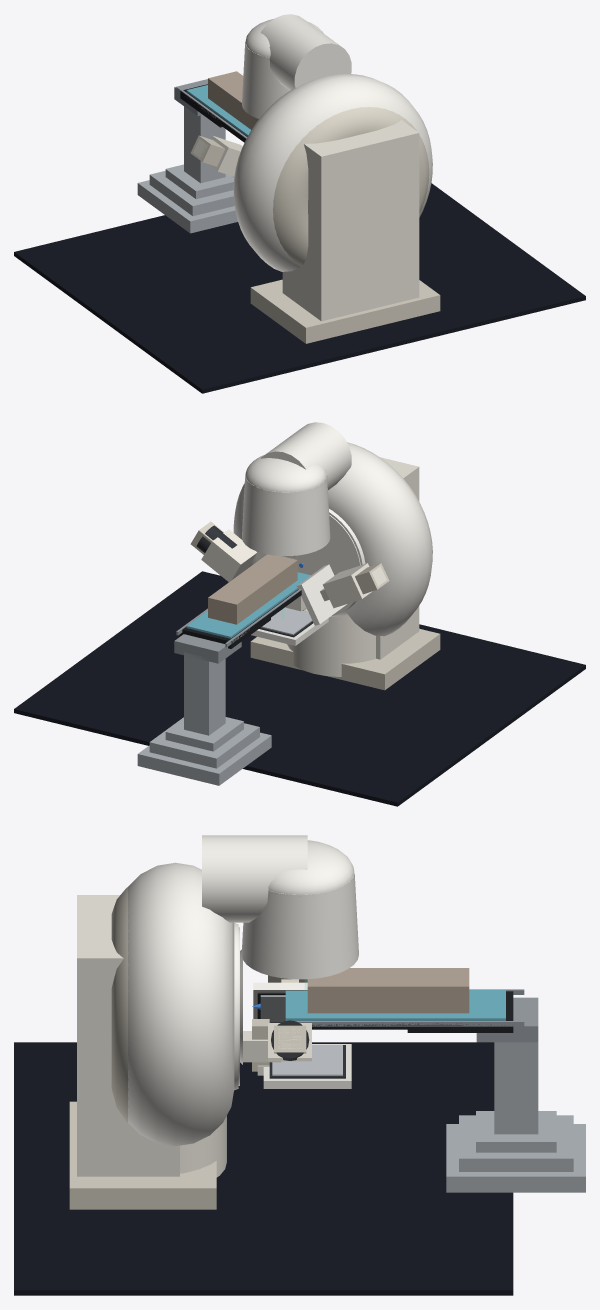
File: truebeam.glb
3 renders of one model, top to bottom at view 1: azimuth 30°, elevation 25°; view 2: azimuth 150°, elevation 25°; view 3: azimuth 270°, elevation 25°, orthographic. The views are drawn at different scales.
Parts seen in each view (by area): view 1: Floor, Stand_Column, Gantry_Body, Gantry_Body_Inner, Stand_Pedestal, Head_Neck, Head_Housing, Couch_Base, Couch_Column, Couch_Base_Step, Patient_Phantom, Couch_Base_Collar (+4 smaller); view 2: Floor, Gantry_Body, Head_Housing, Stand_Pedestal, Patient_Phantom, Stand_Fairing, Couch_Column, Head_Neck, Couch_Base, Head_Crown, Couch_Base_Step, kV_Source_Arm_Base (+13 smaller); view 3: Floor, Gantry_Body, Stand_Column, Head_Housing, Patient_Phantom, Head_Neck, Stand_Pedestal, Couch_Base, Couch_Column, Couch_Base_Step, Gantry_Body_Inner, Couch_Pad (+14 smaller).
Part boxes in pixels (x1,y1,x2,y2): Floor: (14,183,585,393); Stand_Column: (282,120,419,321); Gantry_Body: (233,74,432,271); Gantry_Body_Inner: (272,107,429,266); Stand_Pedestal: (250,279,440,343); Head_Neck: (260,14,351,90); Head_Housing: (242,38,289,118); Couch_Base: (137,180,237,233); Couch_Column: (184,106,225,183); Couch_Base_Step: (149,170,234,215); Patient_Phantom: (208,71,258,129); Couch_Base_Collar: (165,164,234,198); Floor: (14,571,585,806); Gantry_Body: (233,442,432,636); Head_Housing: (242,473,330,555); Stand_Pedestal: (250,628,440,690); Patient_Phantom: (208,554,297,624); Stand_Fairing: (287,614,375,676); Couch_Column: (184,652,225,735); Head_Neck: (261,422,351,490); Couch_Base: (137,732,271,785); Head_Crown: (245,455,326,493); Couch_Base_Step: (149,717,259,768); kV_Source_Arm_Base: (201,529,257,581); Floor: (14,1042,513,1295); Gantry_Body: (128,862,234,1146); Stand_Column: (77,895,179,1176); Head_Housing: (241,870,358,979); Patient_Phantom: (307,968,469,1013); Head_Neck: (202,835,307,922); Stand_Pedestal: (69,1101,216,1209); Couch_Base: (446,1124,585,1192); Couch_Column: (494,1042,538,1134); Couch_Base_Step: (459,1115,573,1171); Gantry_Body_Inner: (111,887,128,1122); Couch_Pad: (285,989,505,1020).
Size of the model in its own units: 4 by 2.5 by 3.9.
